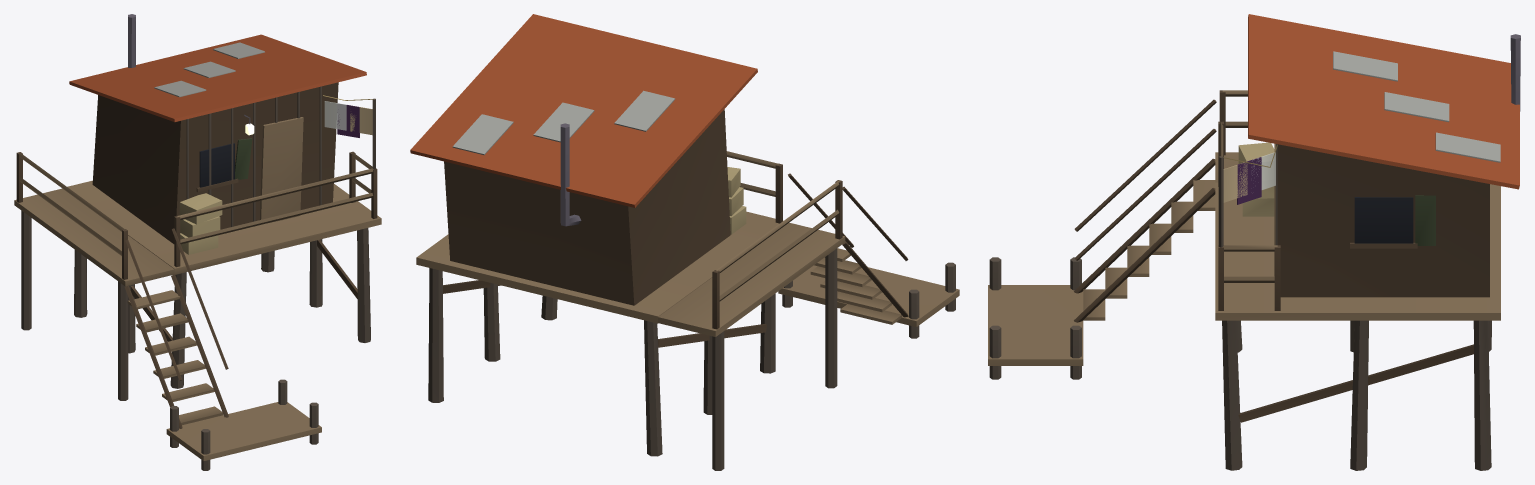
Rendered from env_stiltHouse_b.glb.
The picture shows the model from 3 angles, left to right: view 1: azimuth 30°, elevation 25°; view 2: azimuth 150°, elevation 25°; view 3: azimuth 270°, elevation 25°; orthographic projection. The views are drawn at different scales.
Visible parts, largest first — view 1: env_stiltHouse_b; view 2: env_stiltHouse_b; view 3: env_stiltHouse_b.
Part boxes in pixels (x1,y1,x2,y2): env_stiltHouse_b: [14, 14, 381, 470]; env_stiltHouse_b: [410, 14, 959, 470]; env_stiltHouse_b: [988, 14, 1520, 470].
Size of the model in its own units: 5.4 by 5.32 by 7.27.
